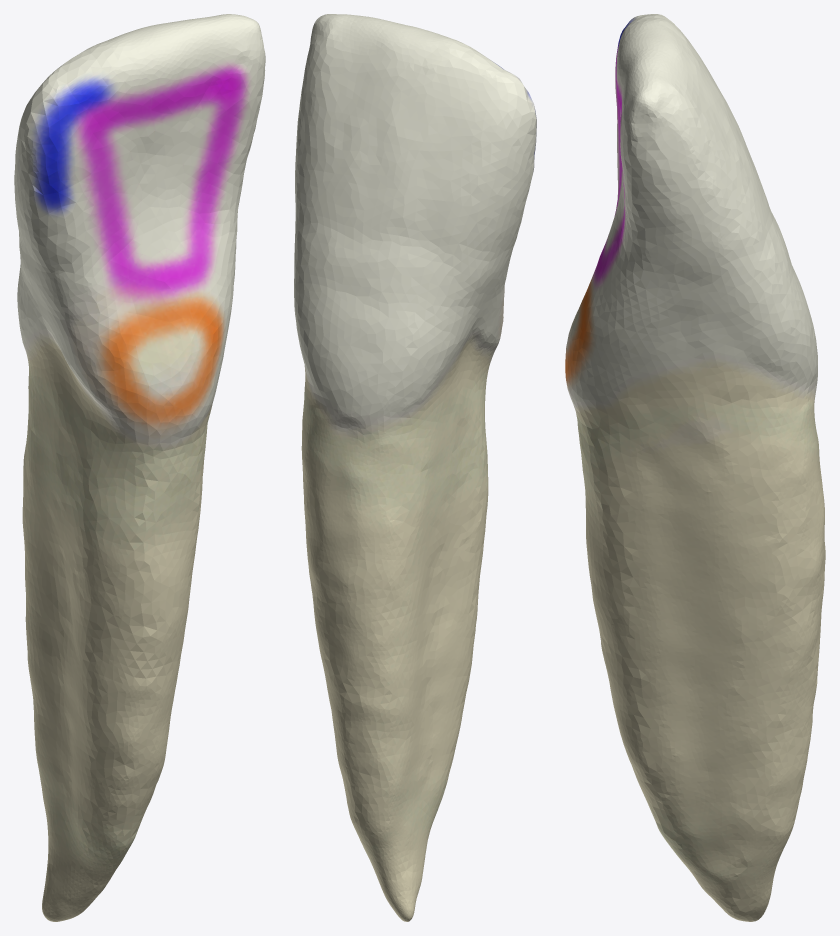
File: 32 - incisivo lateral inferior esquerdo - face lingual.glb
The picture shows the model from 3 angles, left to right: view 1: azimuth 30°, elevation 25°; view 2: azimuth 150°, elevation 25°; view 3: azimuth 270°, elevation 25°; orthographic projection. The views are drawn at different scales.
Parts seen in each view (by area): view 1: 3MFMeshParent_0; view 2: 3MFMeshParent_0; view 3: 3MFMeshParent_0.
Boxes of the visible parts, box(x1,y1,x2,y2) form: 3MFMeshParent_0: box(14, 14, 265, 921); 3MFMeshParent_0: box(294, 14, 536, 921); 3MFMeshParent_0: box(565, 14, 825, 921).
Size of the model in its own units: 0.1329 by 0.4893 by 0.1275.
1 material, 1 textured.
